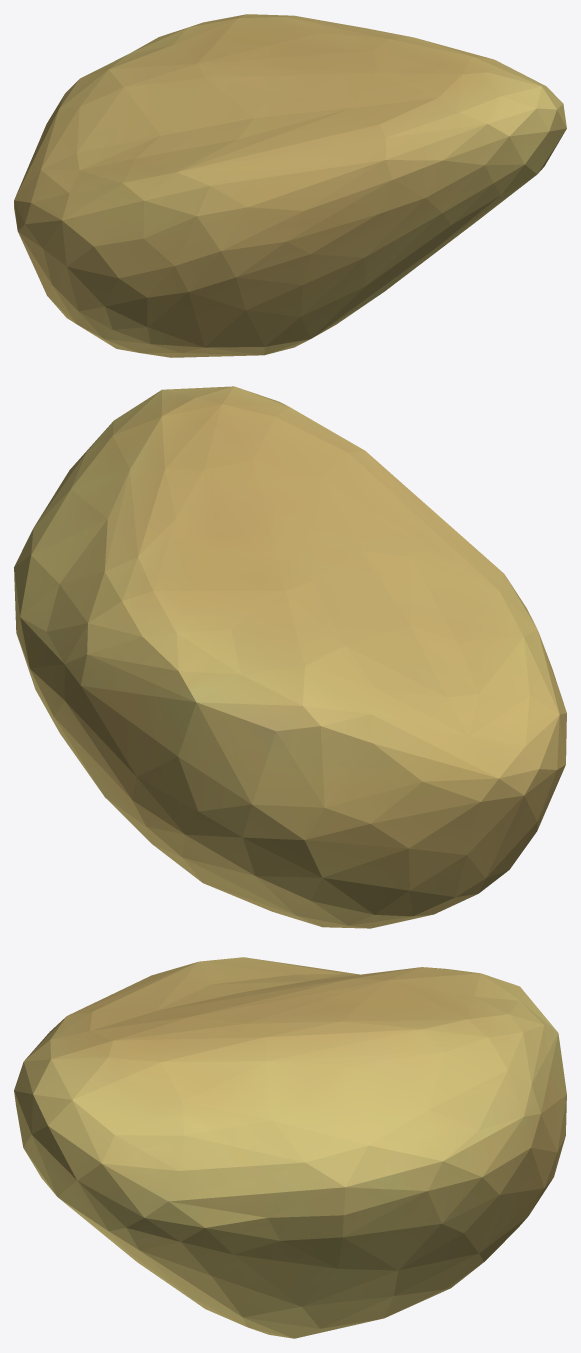
The model's file is nodes_lymph_pancreaticoduodenal_LP.glb.
3 views of the same model, one above another, from view 1: azimuth 30°, elevation 25°; view 2: azimuth 150°, elevation 25°; view 3: azimuth 270°, elevation 25° (orthographic). The views are drawn at different scales.
Parts seen in each view (by area): view 1: nodes_lymph_pancreaticoduodenal_LP; view 2: nodes_lymph_pancreaticoduodenal_LP; view 3: nodes_lymph_pancreaticoduodenal_LP.
Boxes of the visible parts, x1,y1,x2,y2 form: nodes_lymph_pancreaticoduodenal_LP: (14,14,566,357); nodes_lymph_pancreaticoduodenal_LP: (14,386,566,928); nodes_lymph_pancreaticoduodenal_LP: (14,957,566,1338).
Size of the model in its own units: 0.000235 by 0.000146 by 0.000198.
1 material, 1 textured.
